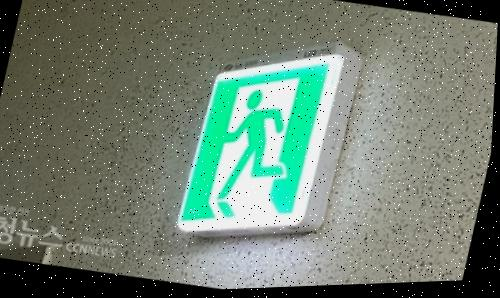emergency_exit: (176, 51, 353, 237)
